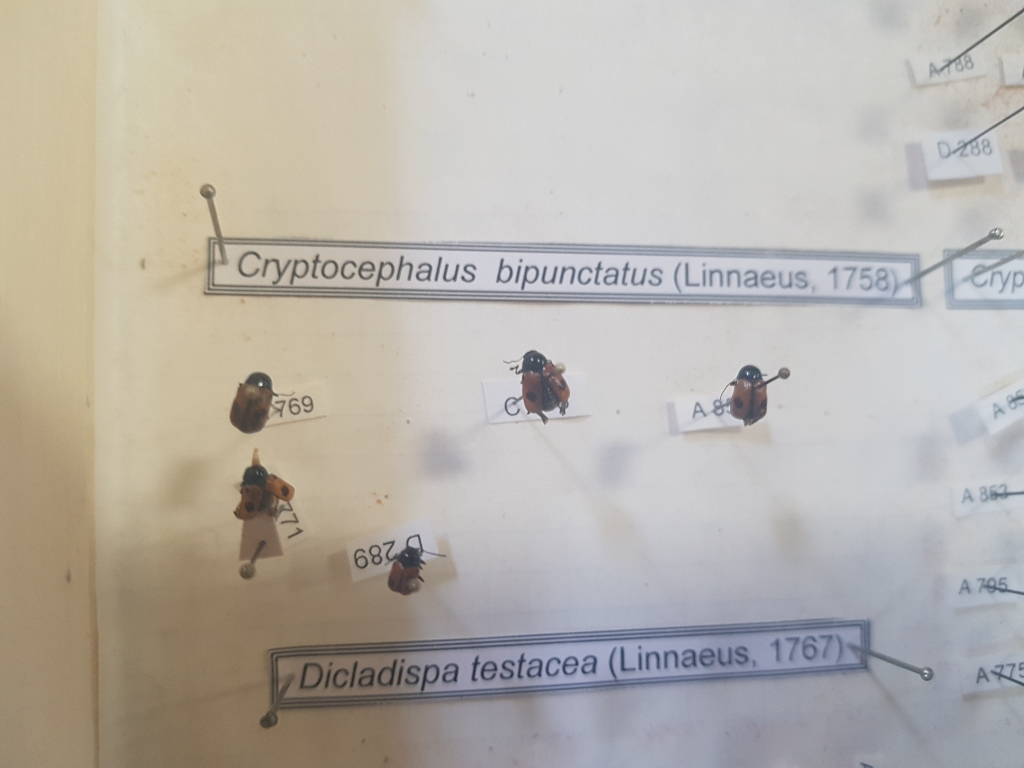Cryptocephalus_bipunctatus: (499, 345, 574, 427), (233, 458, 298, 530), (725, 359, 772, 425)
